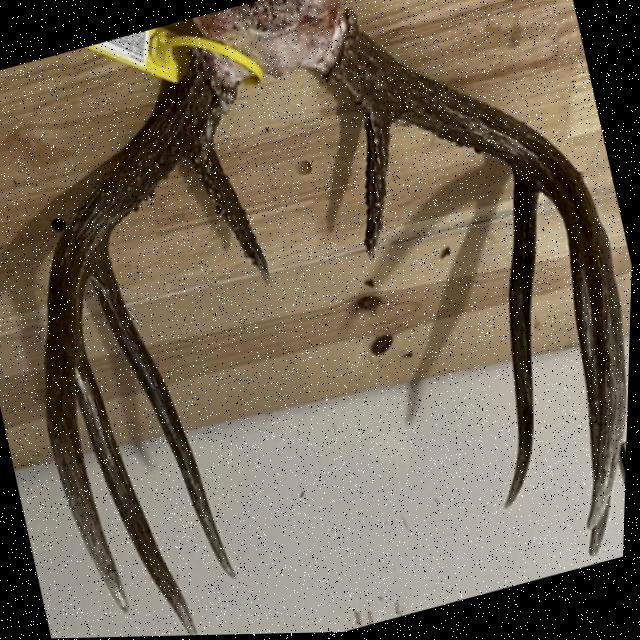L-F: (330, 17, 629, 534)
L-G1: (363, 112, 391, 259)
L-G2: (506, 178, 540, 512)
R-F: (46, 66, 226, 615)
R-G1: (189, 139, 271, 290)
R-G2: (92, 248, 242, 583)
R-G3: (77, 357, 202, 636)
